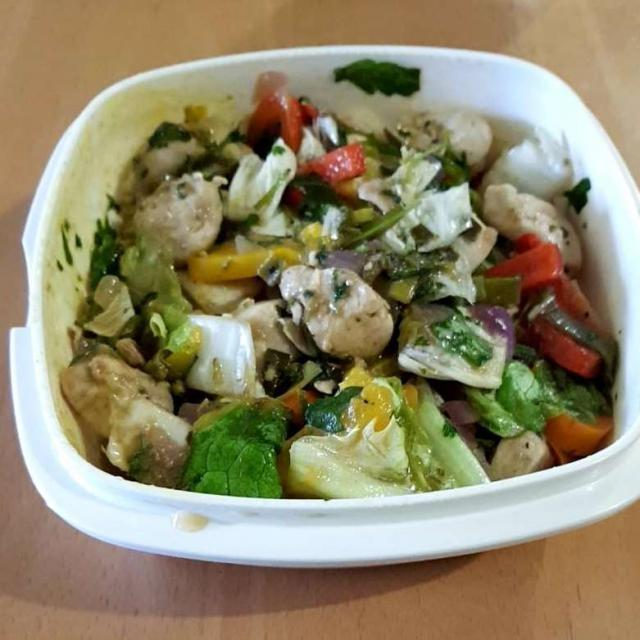chicken: (65, 171, 402, 416), (402, 178, 572, 325)
mixed-vegetables: (191, 80, 606, 458)
salad: (59, 77, 606, 495)
